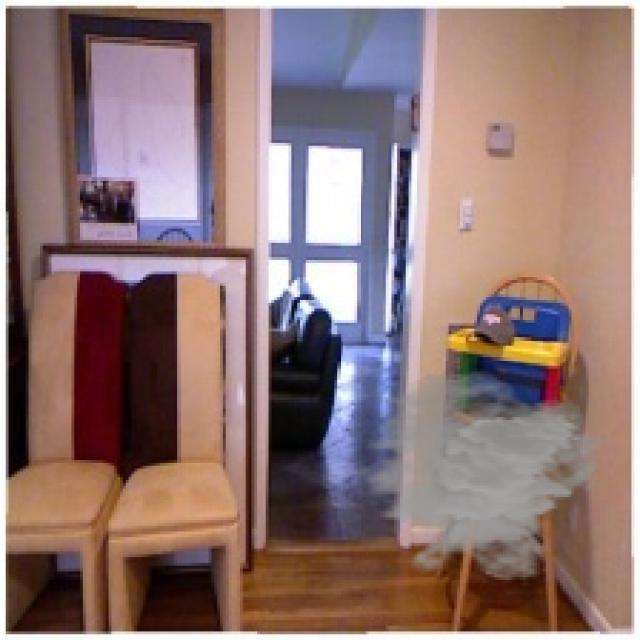Smoke: (339, 368, 612, 583)
